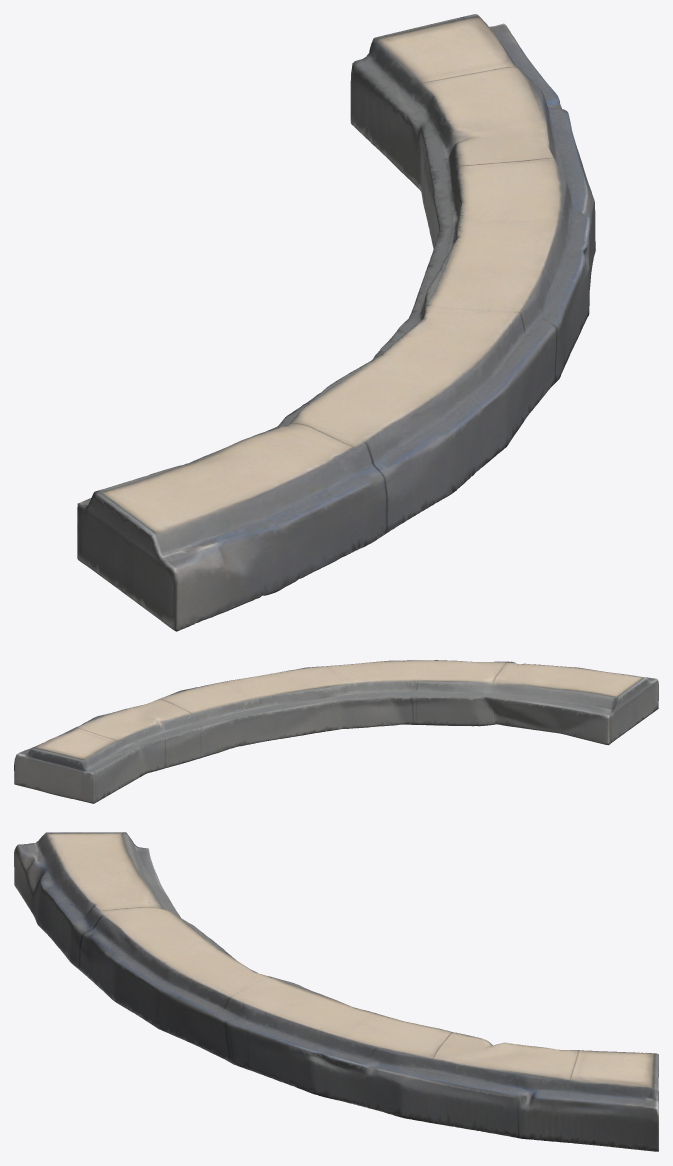
The model's file is AI_SidewalkCurve1.fbx.
3 renders of one model, top to bottom at view 1: azimuth 30°, elevation 25°; view 2: azimuth 150°, elevation 25°; view 3: azimuth 270°, elevation 25°, orthographic. The views are drawn at different scales.
Parts seen in each view (by area): view 1: Mesh_0; view 2: Mesh_0; view 3: Mesh_0.
Boxes of the visible parts, bbox=[...] form: Mesh_0: bbox=[77, 14, 595, 631]; Mesh_0: bbox=[14, 660, 658, 803]; Mesh_0: bbox=[14, 832, 658, 1151].
Size of the model in its own units: 196 by 19.05 by 200.
Materials: 1 (1 with a texture image).
